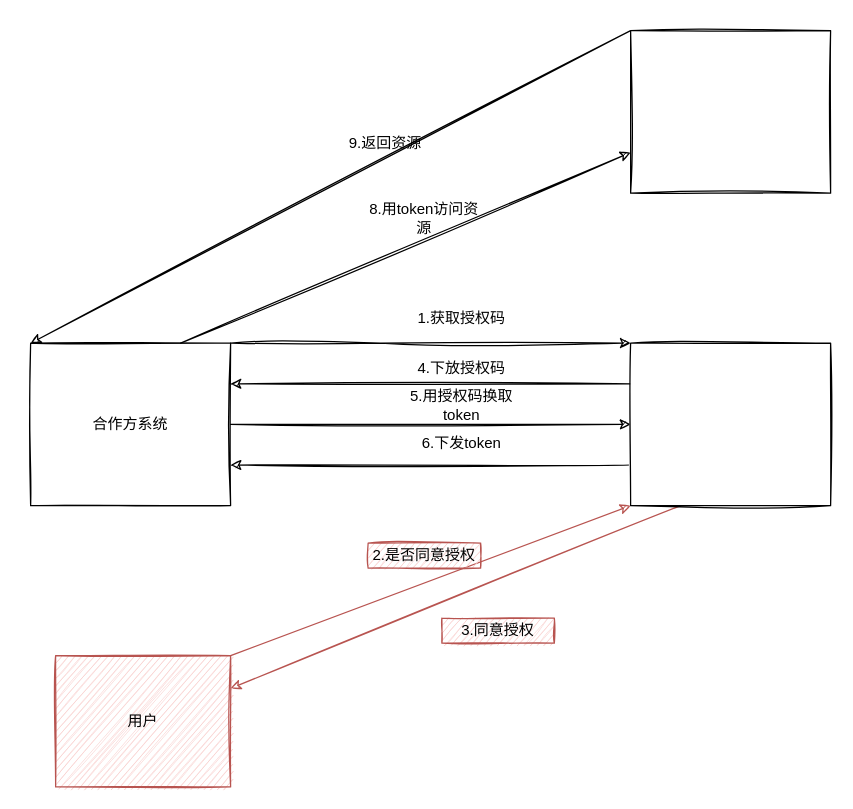
Some shapes in this 853 by 809 pixel diagram are drawn without their labels. Each missing label, with the box of its shape:
授权服务: (629, 342, 831, 506)
资源服务: (629, 29, 831, 193)
